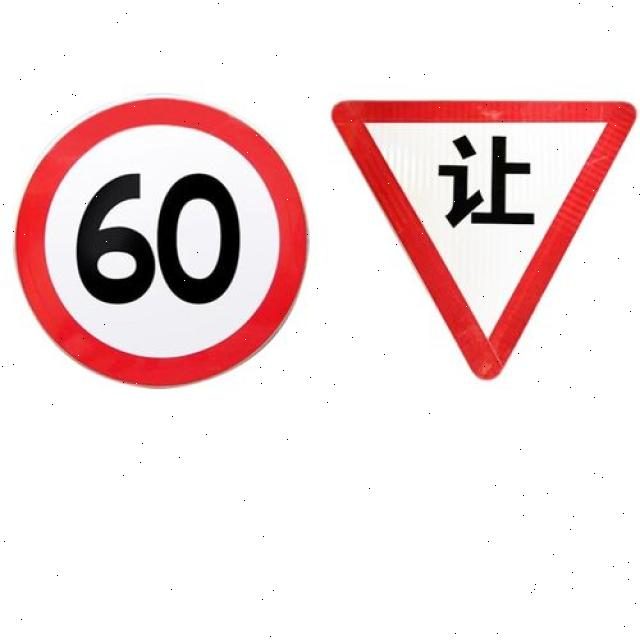speed limit 60: (14, 100, 309, 390)
